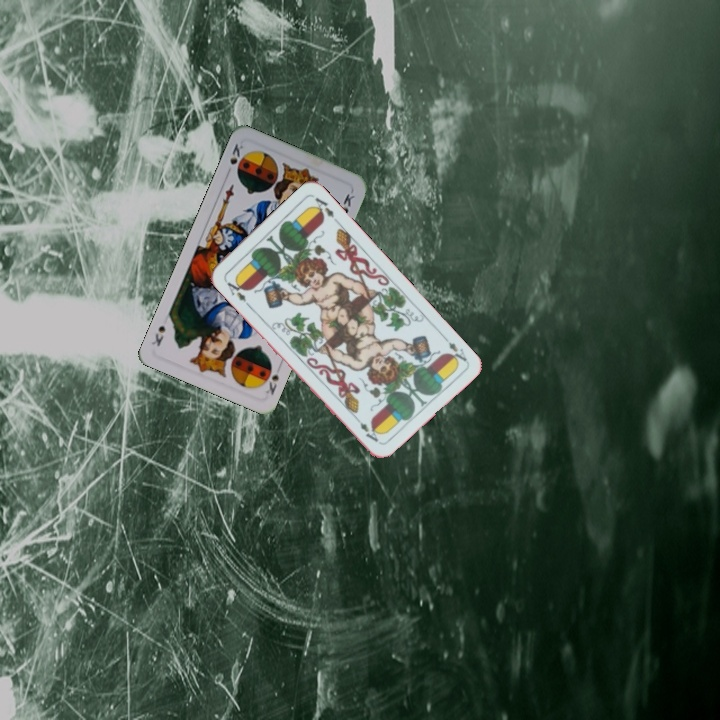EA: (438, 332, 470, 367), (220, 275, 252, 308)
SK: (259, 360, 284, 398), (226, 139, 246, 167)
